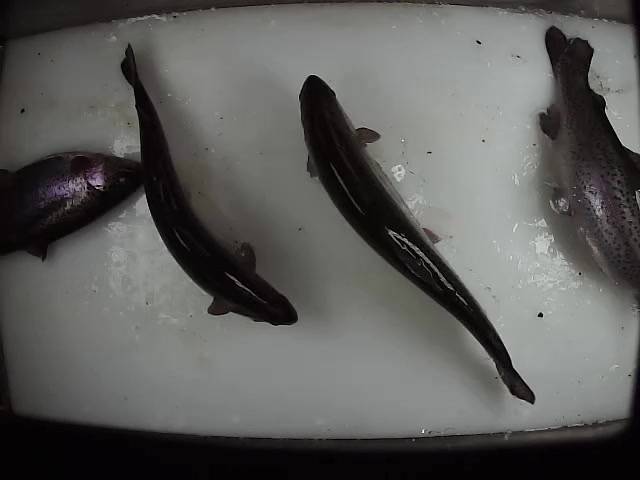fish: (295, 72, 537, 406), (119, 41, 301, 328)
